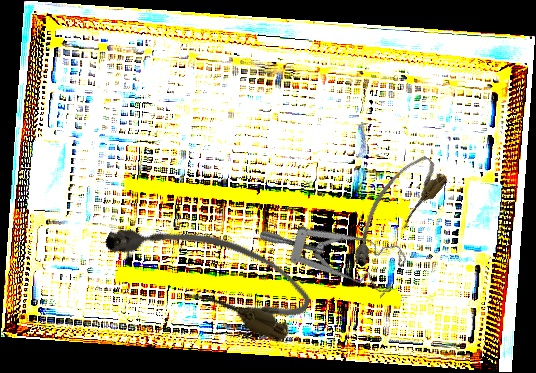Cannula: (97, 191, 320, 349), (335, 149, 451, 273)
Speculum: (256, 174, 416, 323)
